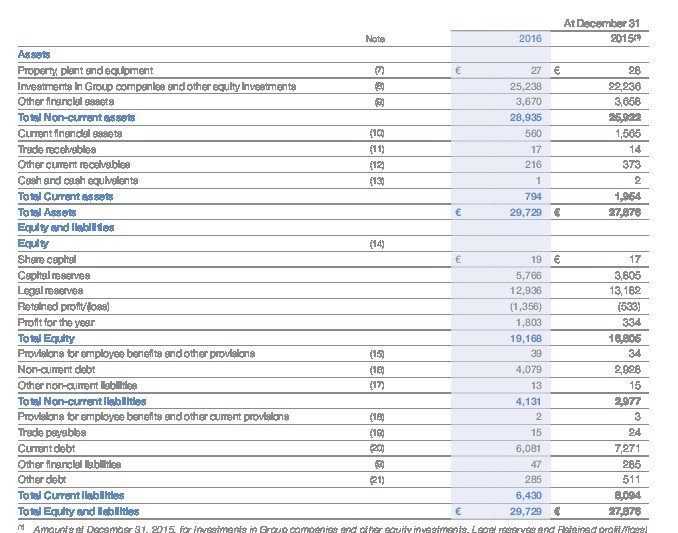table: (0, 0, 678, 533)
